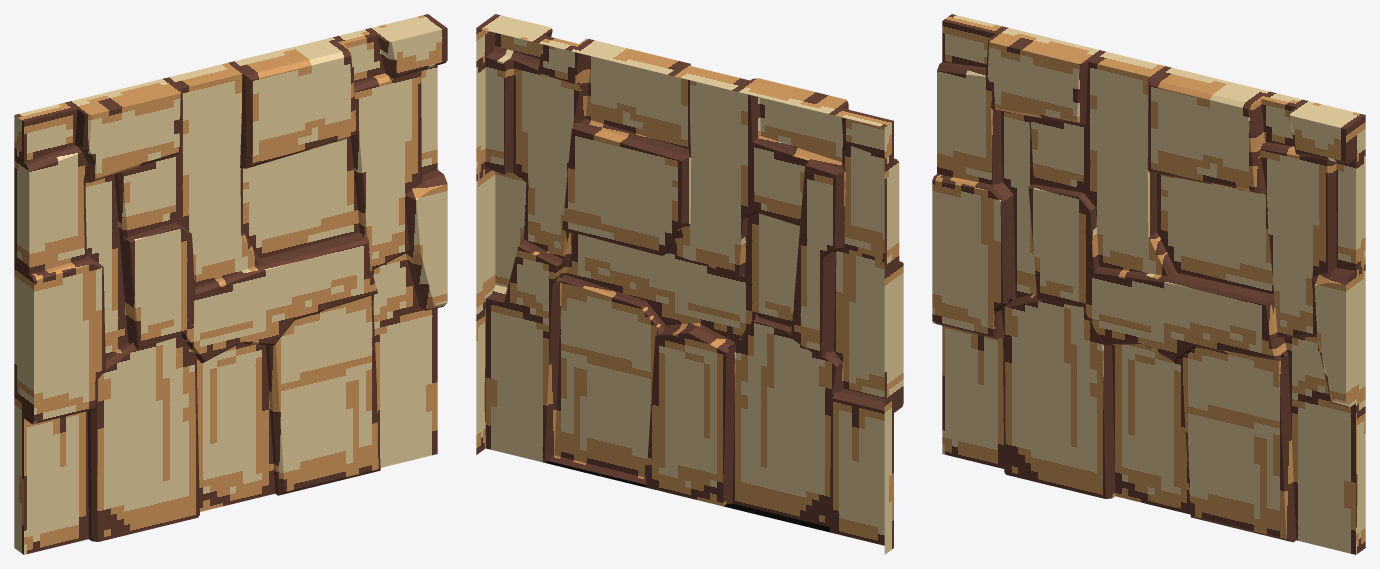
The model's file is Cliff_B.glb.
3 renders of one model, left to right at view 1: azimuth 30°, elevation 25°; view 2: azimuth 150°, elevation 25°; view 3: azimuth 330°, elevation 25°, orthographic.
Parts seen in each view (by area): view 1: Cliff_B; view 2: Cliff_B; view 3: Cliff_B.
Boxes of the visible parts, x1,y1,x2,y2 form: Cliff_B: [14, 14, 447, 554]; Cliff_B: [476, 14, 903, 554]; Cliff_B: [932, 14, 1365, 554].
Size of the model in its own units: 5 by 5 by 0.4082.
1 material, 1 textured.
